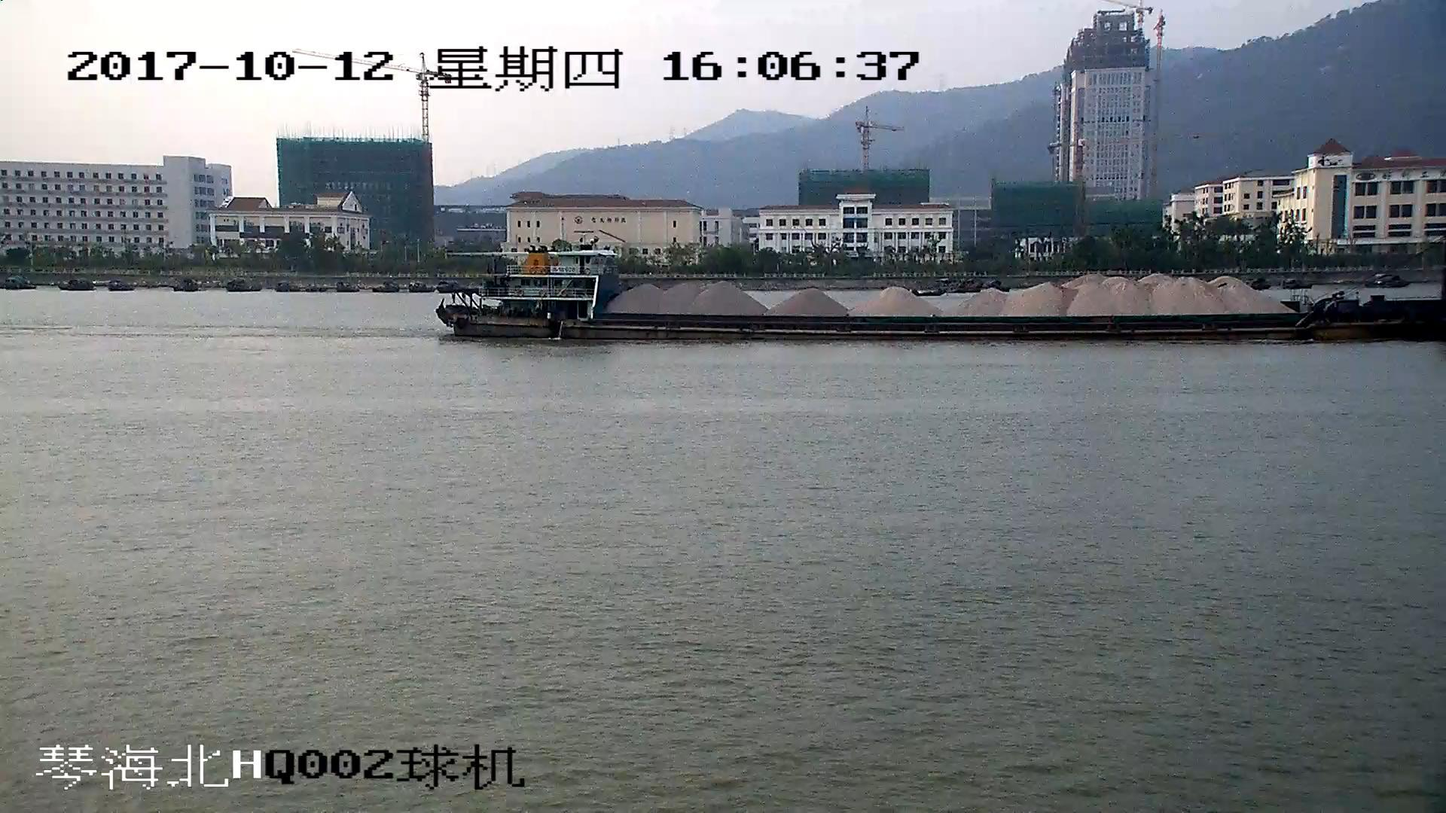ore carrier: (438, 239, 1445, 342)
